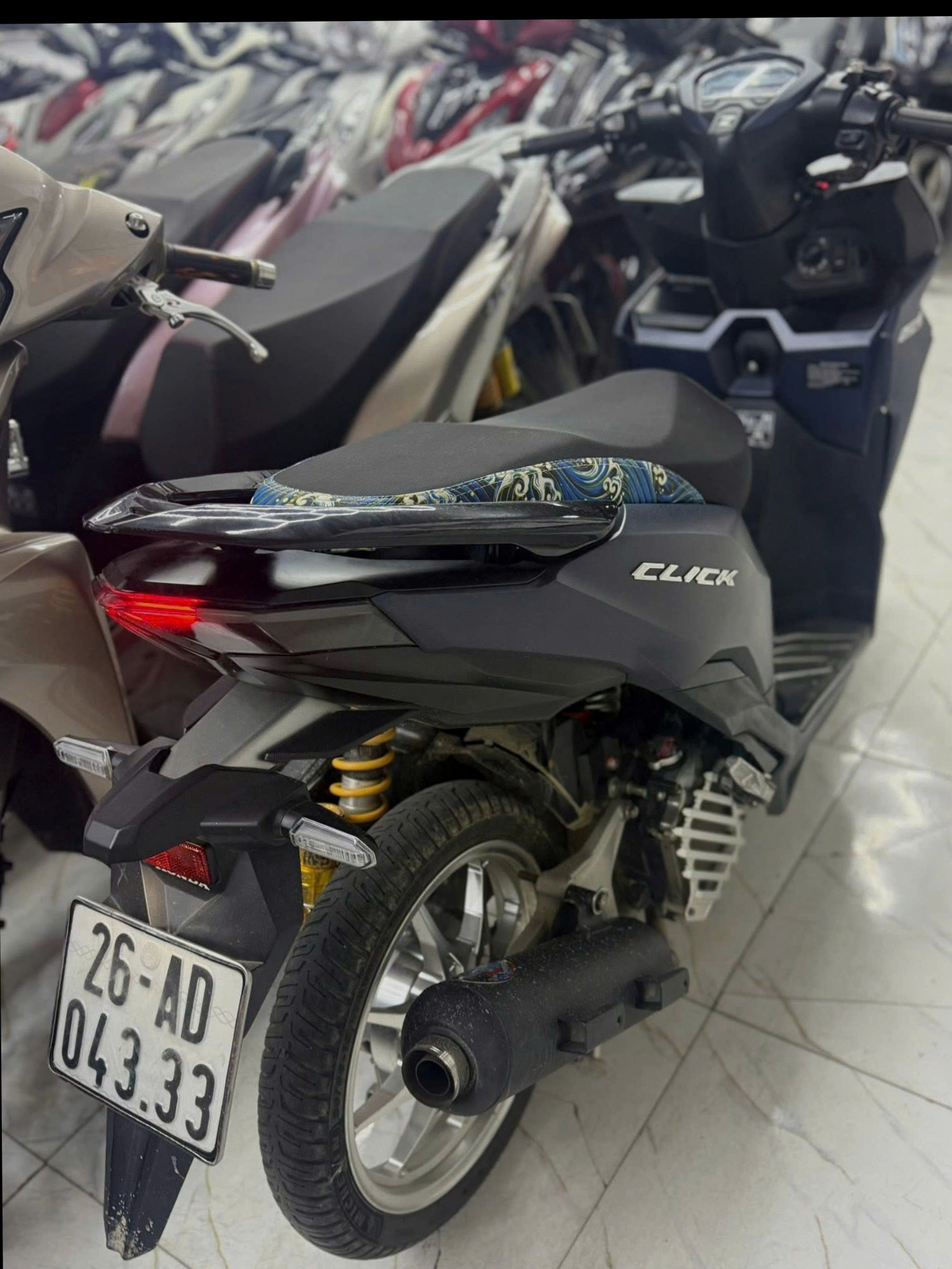Bien-so: (44, 832, 273, 1119)
